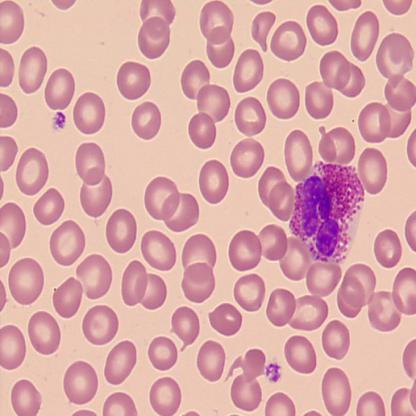Eosinophil: (289, 160, 368, 264)
